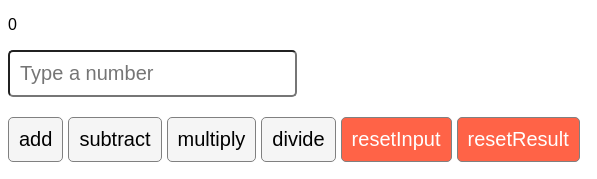
Test case: calculate 10/0, should result display can't divide number by zero
This screenshot has width=597, height=179.
In the number field named "calculator-input": {"x": 152, "y": 74} [8,50,297,97], type "10"
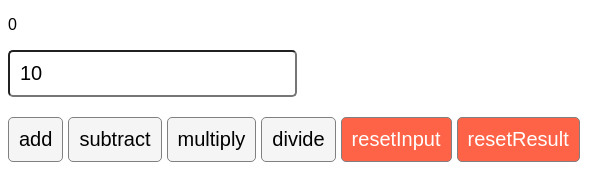
Click the button "add": {"x": 36, "y": 140} [8,117,63,162]
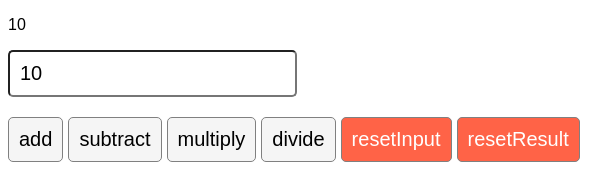
Expected: the text named "calculator-output" reads "10", [8,16,26,33]
Replace the text in the number field named "calculator-input" with "0": {"x": 152, "y": 74} [8,50,297,97]
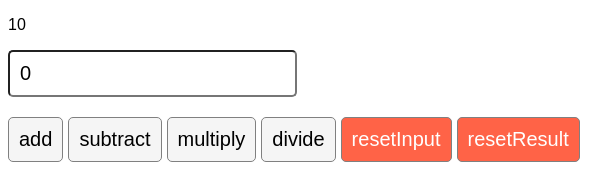
Click the button "divide": {"x": 298, "y": 140} [261,117,336,162]
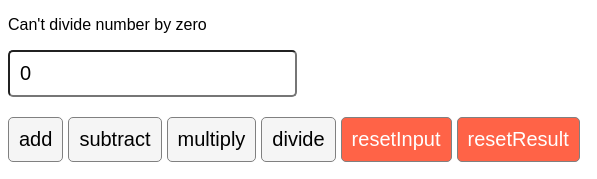
Expected: the text named "calculator-output" reads "Can't divide number by zero", [8,16,207,33]
